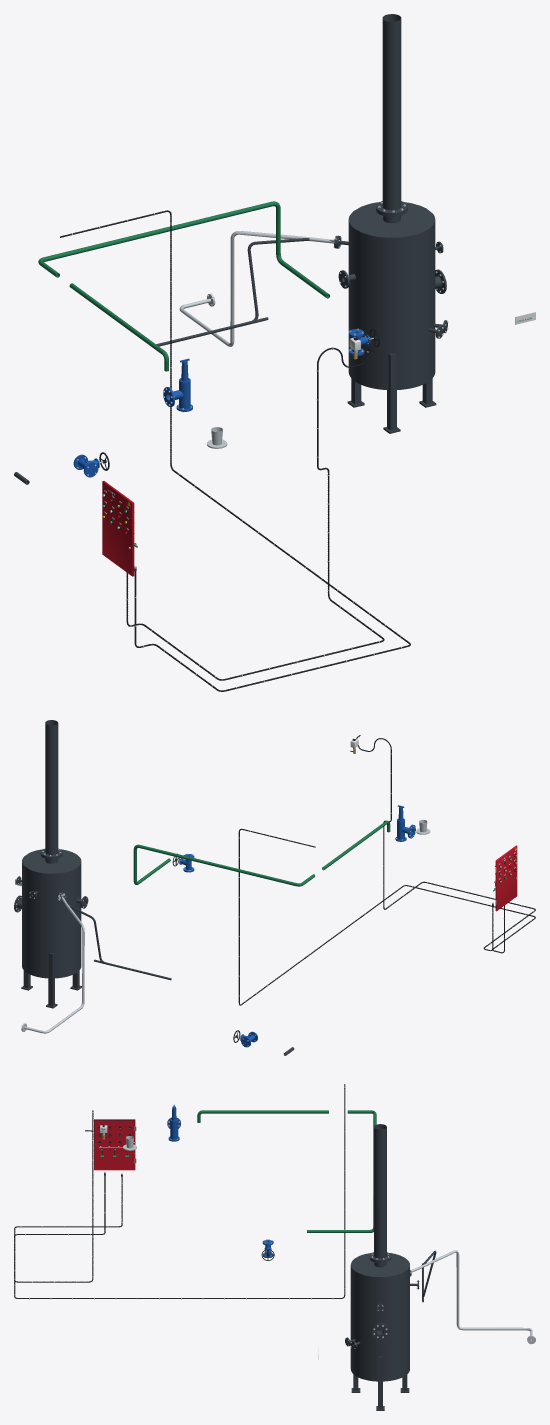
3 views of the same model, one above another, from view 1: azimuth 30°, elevation 25°; view 2: azimuth 150°, elevation 25°; view 3: azimuth 270°, elevation 25° (orthographic). The views are drawn at different scales.
Visible parts, largest first — view 1: separator_bdv60_5 / dark, bdv_vent / dark, cabinet_door / cabinet_door_5.npz, mod_direct_drive_cable / black, to_direct / green, wiring_pressure_switch_2 / black, trap_gap_to_bdv / steel, tds_without_fv / dark, safety_1 / blue; view 2: separator_bdv60_5 / dark, bdv_vent / dark, cabinet_door / cabinet_door_5.npz, mod_direct_drive_cable / black, to_direct / green, wiring_pressure_switch_2 / black, trap_gap_to_bdv / steel, tds_without_fv / dark; view 3: separator_bdv60_5 / dark, cabinet_door / cabinet_door_5.npz, bdv_vent / dark, mod_direct_drive_cable / black, wiring_pressure_switch_2 / black, trap_gap_to_bdv / steel, direct_inlet / green, to_direct / green.
Part boxes in pixels (bbox=[...]): separator_bdv60_5 / dark: bbox=[336, 202, 447, 433]; bdv_vent / dark: bbox=[376, 14, 407, 214]; cabinet_door / cabinet_door_5.npz: bbox=[102, 481, 134, 576]; mod_direct_drive_cable / black: bbox=[60, 210, 410, 691]; to_direct / green: bbox=[38, 201, 329, 298]; wiring_pressure_switch_2 / black: bbox=[126, 347, 384, 680]; trap_gap_to_bdv / steel: bbox=[179, 231, 337, 346]; tds_without_fv / dark: bbox=[156, 236, 337, 346]; safety_1 / blue: bbox=[163, 358, 192, 411]; separator_bdv60_5 / dark: bbox=[14, 849, 88, 1008]; bdv_vent / dark: bbox=[40, 720, 62, 858]; cabinet_door / cabinet_door_5.npz: bbox=[495, 845, 517, 911]; mod_direct_drive_cable / black: bbox=[238, 828, 535, 1005]; to_direct / green: bbox=[133, 844, 315, 886]; wiring_pressure_switch_2 / black: bbox=[356, 735, 535, 950]; trap_gap_to_bdv / steel: bbox=[21, 893, 84, 1033]; tds_without_fv / dark: bbox=[57, 892, 171, 980]; separator_bdv60_5 / dark: bbox=[345, 1253, 418, 1410]; cabinet_door / cabinet_door_5.npz: bbox=[94, 1119, 136, 1170]; bdv_vent / dark: bbox=[369, 1124, 391, 1261]; mod_direct_drive_cable / black: bbox=[14, 1084, 345, 1298]; wiring_pressure_switch_2 / black: bbox=[14, 1110, 122, 1282]; trap_gap_to_bdv / steel: bbox=[410, 1250, 535, 1344]; direct_inlet / green: bbox=[197, 1110, 328, 1122]; to_direct / green: bbox=[307, 1110, 376, 1232].
Size of the model in its own units: 5.82 by 3.85 by 6.74.
